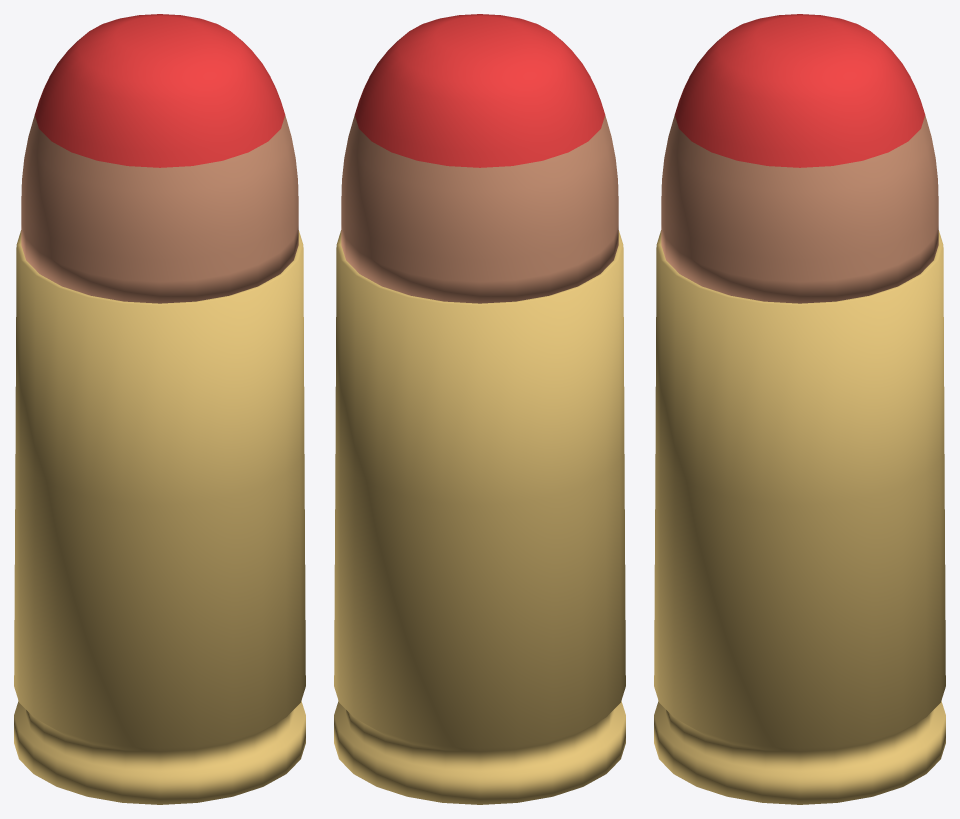
The model's file is 45acp_tr.glb.
3 views of the same model, side by side, from view 1: azimuth 30°, elevation 25°; view 2: azimuth 150°, elevation 25°; view 3: azimuth 270°, elevation 25° (orthographic).
Parts seen in each view (by area): view 1: vaina, bala_cuerpo, punta; view 2: vaina, bala_cuerpo, punta; view 3: vaina, bala_cuerpo, punta.
Part boxes in pixels (x1,y1,x2,y2): vaina: [14, 230, 305, 804]; bala_cuerpo: [21, 115, 298, 303]; punta: [34, 14, 285, 167]; vaina: [334, 230, 625, 804]; bala_cuerpo: [341, 115, 618, 303]; punta: [354, 14, 605, 167]; vaina: [654, 230, 945, 804]; bala_cuerpo: [661, 115, 938, 303]; punta: [674, 14, 925, 167].
Bounding box in the file's own units: 0.0121 × 0.0324 × 0.0121.
